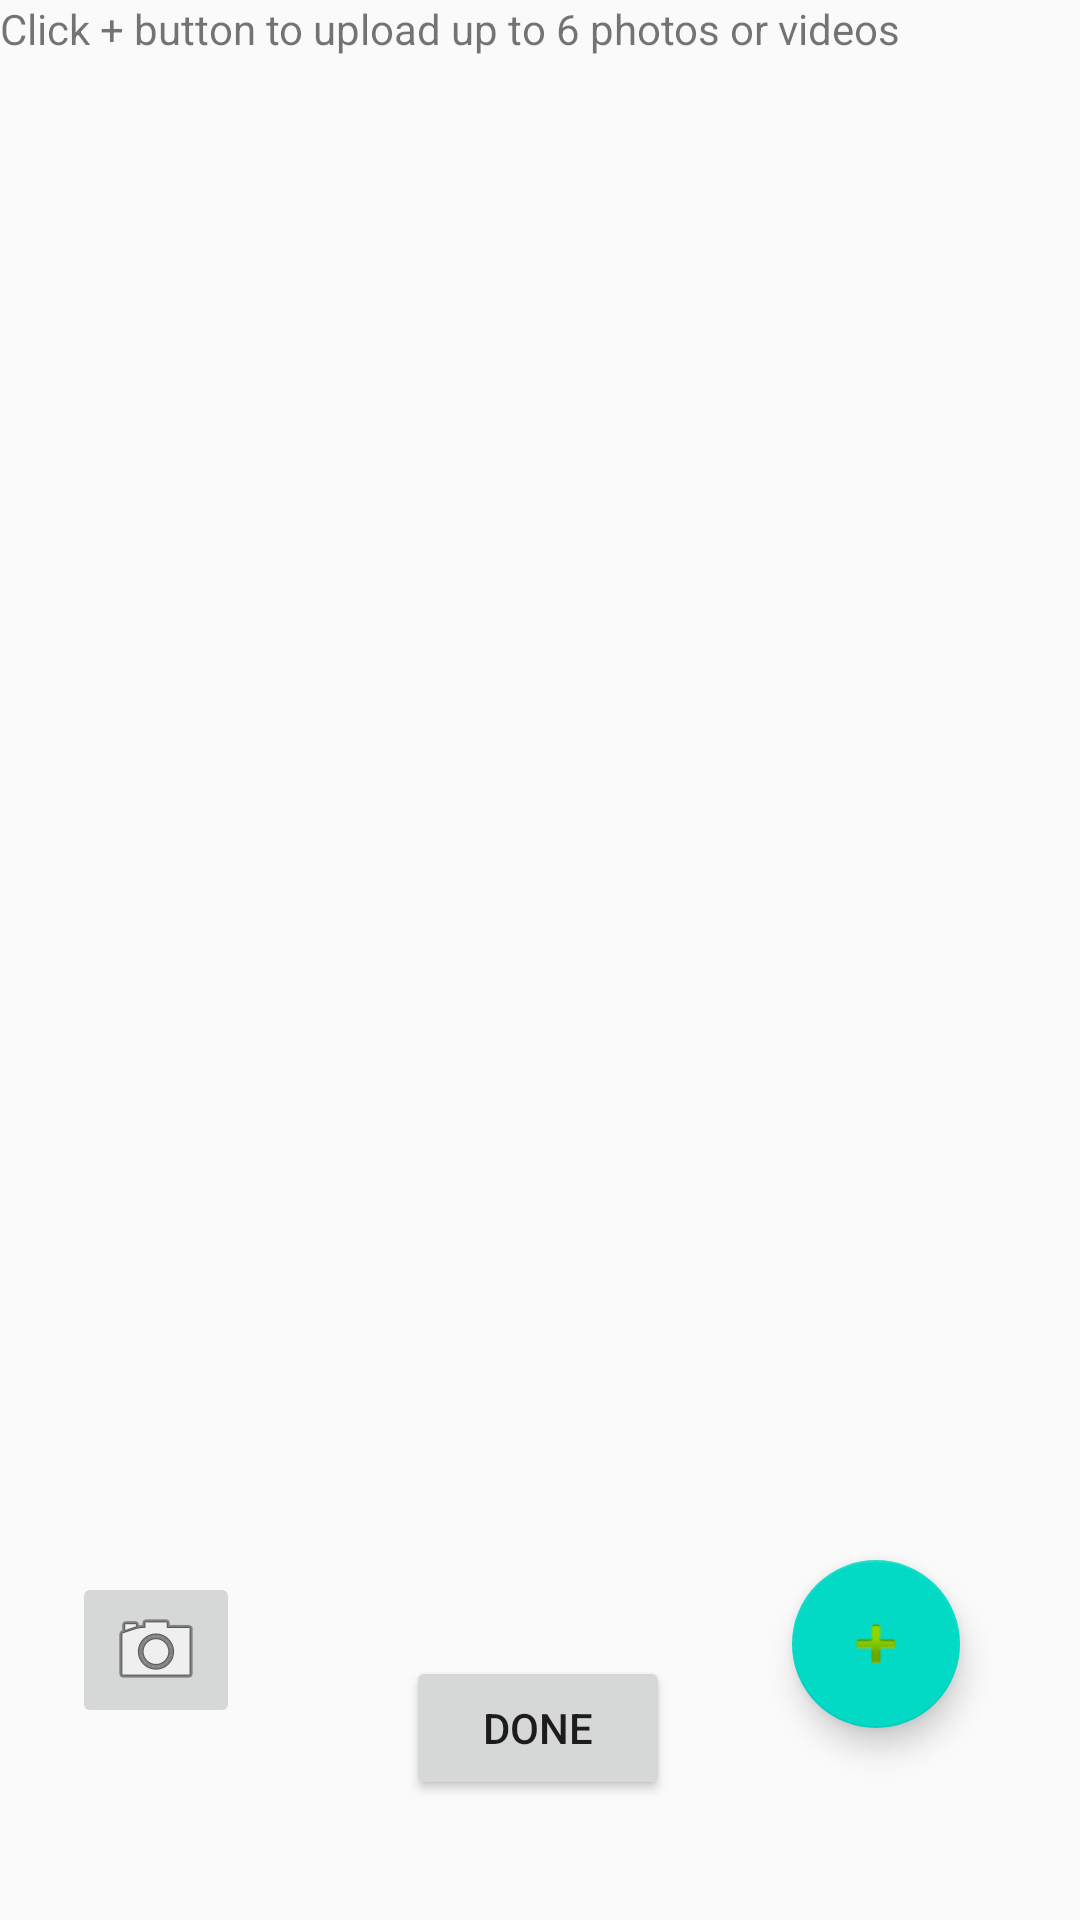

Icons on this 1080w x 1920h Android screen, each with the point to tap as (x=x, y=y):
add: (x=876, y=1644)
camera: (x=156, y=1650)
